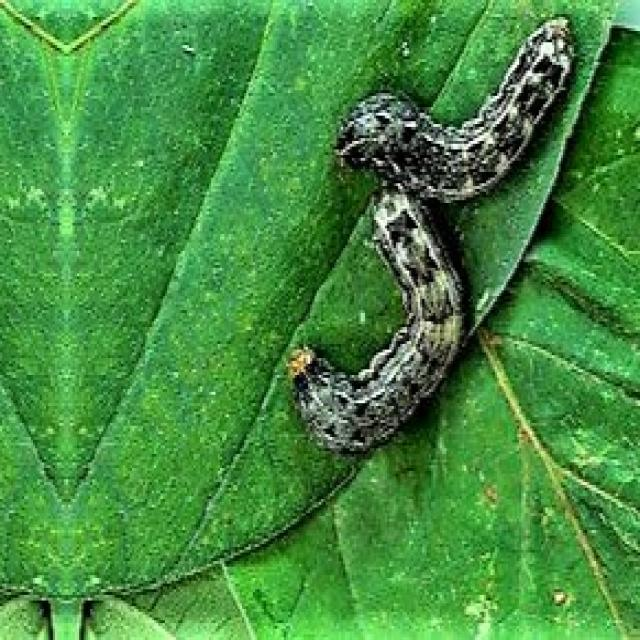Armyworm: (325, 21, 612, 215), (282, 173, 469, 469)
